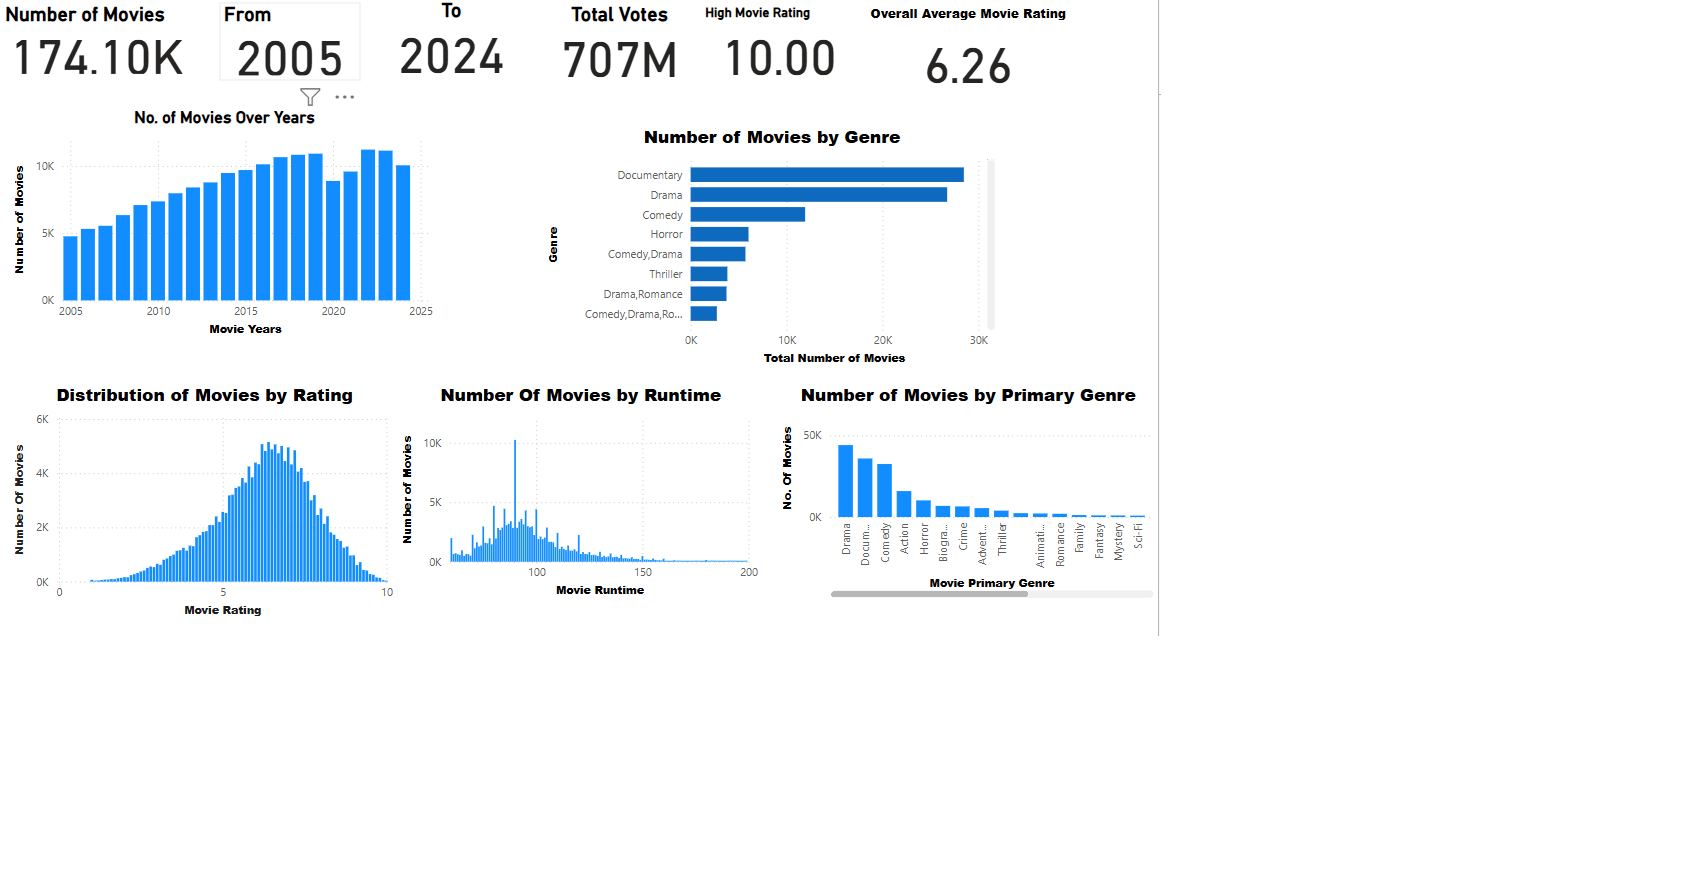

The page's visual inventory and layout, read from the dashboard file:
{"tool":"powerbi","page":{"name":"Overview","canvas":[1280,720],"ordinal":0},"visuals":[{"type":"card","title":"Number of Movies","fields":{"Values":["CountNonNull(title_basics_title_rating_movie V2.Title)"]},"box":[9.6,13.7,211.3,83.7],"z":0},{"type":"card","title":"From","fields":{"Values":["Min(title_basics_title_rating_movie V2.Year)"]},"box":[249.7,13.7,155.1,85.1],"z":1000},{"type":"card","title":"To","fields":{"Values":["Max(title_basics_title_rating_movie V2.Year)"]},"box":[422.6,9.6,163.3,87.8],"z":2000},{"type":"card","title":"Total Votes","fields":{"Values":["Sum(title_basics_title_rating_movie V2.Votes Number)"]},"box":[606.5,13.7,164.7,87.8],"z":3000},{"type":"clusteredColumnChart","title":"No. of Movies Over Years","fields":{"Category":["title_basics_title_rating_movie V2.Year"],"Y":["CountNonNull(title_basics_title_rating_movie V2.Title)"]},"box":[20.6,129,469.3,256.6],"z":4000},{"type":"barChart","title":"Number of Movies by Genre","fields":{"Y":["Count(title_basics_title_rating_movie V2.Title)"],"Category":["title_basics_title_rating_movie V2.Genre"]},"box":[525.6,144.1,580.4,273.1],"z":5000},{"type":"columnChart","title":"Distribution of Movies by Rating","fields":{"Category":["title_basics_title_rating_movie V2.Rating"],"Y":["CountNonNull(title_basics_title_rating_movie V2.Title)"]},"box":[20.6,430.9,425.4,263.5],"z":6000},{"type":"clusteredColumnChart","title":"Number Of Movies by Runtime","fields":{"Category":["title_basics_title_rating_movie V2.Runtime"],"Y":["CountNonNull(title_basics_title_rating_movie V2.Title)"]},"box":[446,430.9,400.7,241.5],"z":7000},{"type":"columnChart","title":"Number of Movies by Primary Genre","fields":{"Category":["title_basics_title_rating_movie V2.Primary Genre"],"Y":["CountNonNull(title_basics_title_rating_movie V2.Title)"]},"box":[863.1,430.9,417.2,241.5],"z":8000},{"type":"card","title":"High Movie Rating","fields":{"Values":["Max(title_basics_title_rating_movie V2.Rating)"]},"box":[778,16.5,171.5,85.1],"z":9000},{"type":"card","title":"Overall Average Movie Rating","fields":{"Values":["Avg(title_basics_title_rating_movie V2.Rating)"]},"box":[949.6,16.5,244.3,100.2],"z":10000}]}

Visuals, with their boxes on the page's 1280x720 design canvas (x1, y1, x2, y2). These are canvas units, not pixel positions in the 1682x896 screenshot, which may show the page scaled, cropped or inside an application window:
"Number of Movies" card: rect(10, 14, 221, 97)
"From" card: rect(250, 14, 405, 99)
"To" card: rect(423, 10, 586, 97)
"Total Votes" card: rect(606, 14, 771, 102)
"No. of Movies Over Years" clusteredColumnChart: rect(21, 129, 490, 386)
"Number of Movies by Genre" barChart: rect(526, 144, 1106, 417)
"Distribution of Movies by Rating" columnChart: rect(21, 431, 446, 694)
"Number Of Movies by Runtime" clusteredColumnChart: rect(446, 431, 847, 672)
"Number of Movies by Primary Genre" columnChart: rect(863, 431, 1280, 672)
"High Movie Rating" card: rect(778, 16, 950, 102)
"Overall Average Movie Rating" card: rect(950, 16, 1194, 117)
